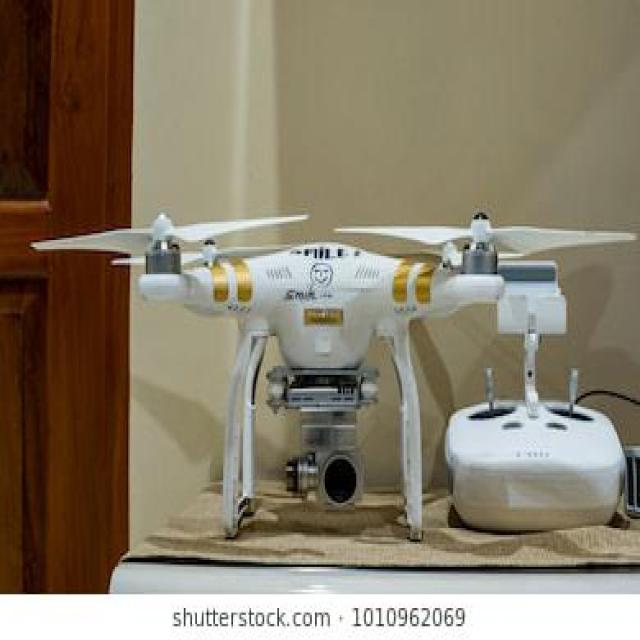drone: (33, 169, 591, 543)
